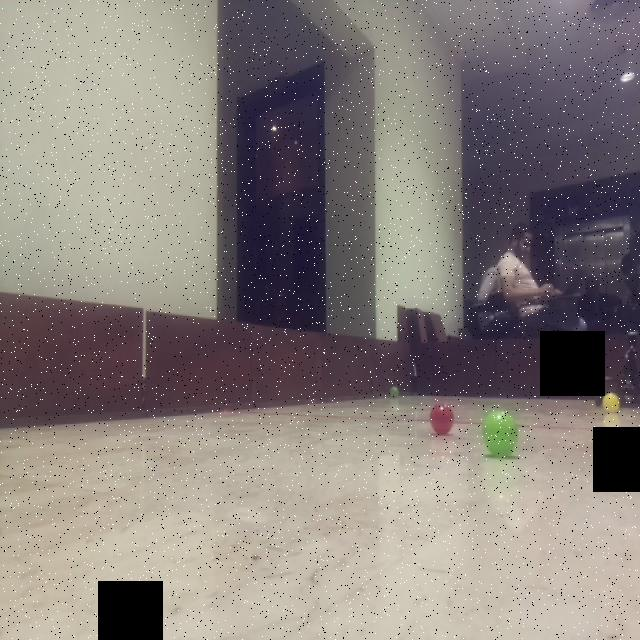ball: (479, 404, 520, 459), (427, 400, 456, 439), (600, 390, 622, 418), (387, 383, 405, 403)
